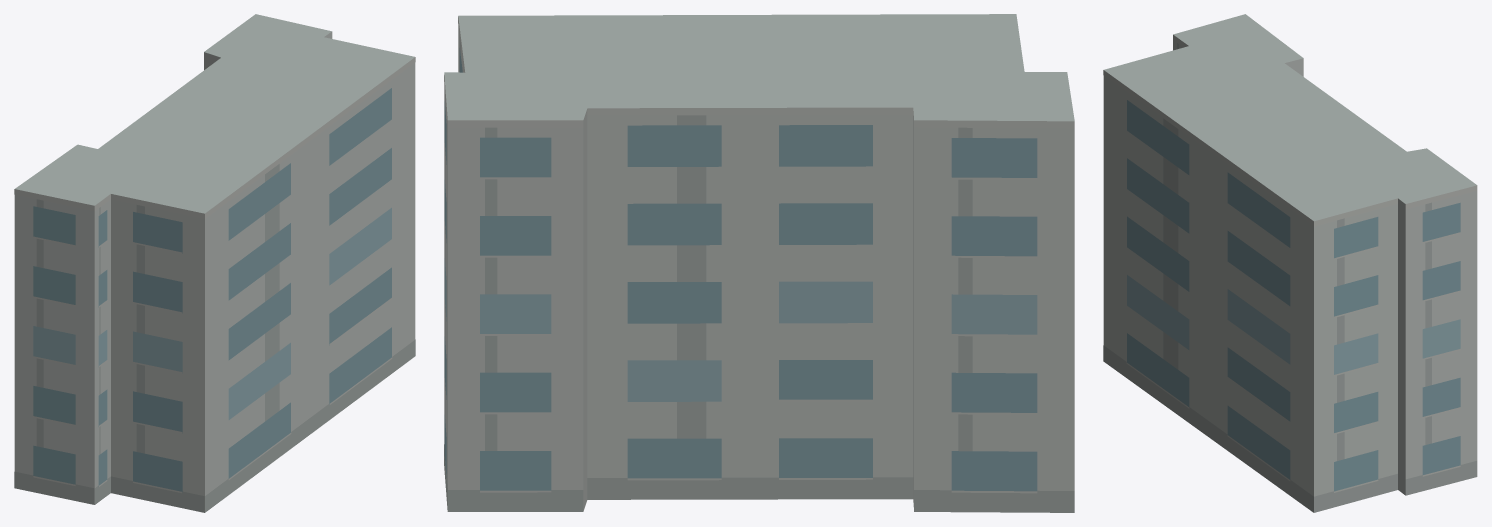
File: survey-upis-32796713.glb
3 views of the same model, side by side, from view 1: azimuth 30°, elevation 25°; view 2: azimuth 150°, elevation 25°; view 3: azimuth 270°, elevation 25° (orthographic). The views are drawn at different scales.
Visible parts, largest first — view 1: survey-upis-32796713.tmp; view 2: survey-upis-32796713.tmp; view 3: survey-upis-32796713.tmp.
Part boxes in pixels (box(x1,y1,x2,y2)): survey-upis-32796713.tmp: box(14, 14, 415, 512); survey-upis-32796713.tmp: box(444, 14, 1074, 512); survey-upis-32796713.tmp: box(1103, 14, 1477, 512).
Bounding box in the file's own units: 20.14 × 13.2 × 15.35.
